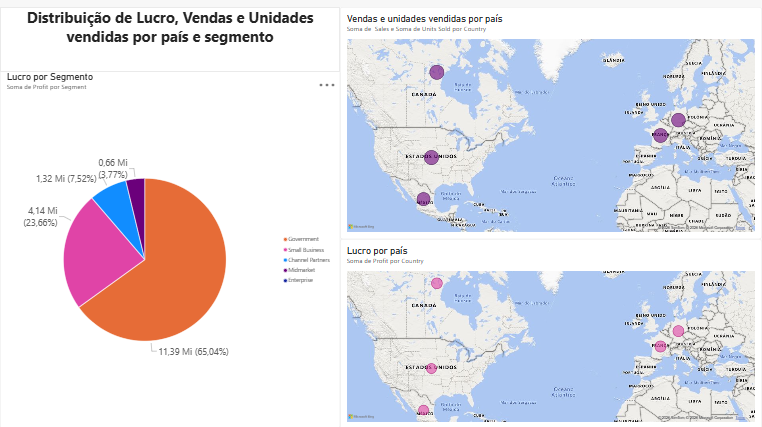

Layout of this report page (visuals, bound fields, positions):
{"tool":"powerbi","page":{"name":"Página 3","canvas":[1920,1080],"ordinal":2},"visuals":[{"type":"map","title":"Vendas e unidades vendidas por país","fields":{"Category":["financials.Country"],"Size":["Sum(financials. Sales)"]},"box":[856.7,17.6,1063.3,584.6],"z":0},{"type":"map","title":"Lucro por país","fields":{"Category":["financials.Country"],"Size":["Sum(financials.Profit)"]},"box":[856.7,602.2,1063.3,478.7],"z":1},{"type":"pieChart","title":"Lucro por Segmento","fields":{"Category":["financials.Segment"],"Y":["Sum(financials.Profit)"]},"box":[0,163.8,856.7,917.2],"z":2},{"type":"textbox","box":[0,17.6,856.7,163.8],"z":3}]}

Visuals, with their boxes in screenshot pixels (x1, y1, x2, y2), scaled from the page's 1920x1080 canvas onto the 762x427 screenshot:
"Vendas e unidades vendidas por país" map: box(340, 7, 761, 238)
"Lucro por país" map: box(340, 238, 761, 426)
"Lucro por Segmento" pieChart: box(0, 65, 340, 426)
textbox: box(0, 7, 340, 72)
